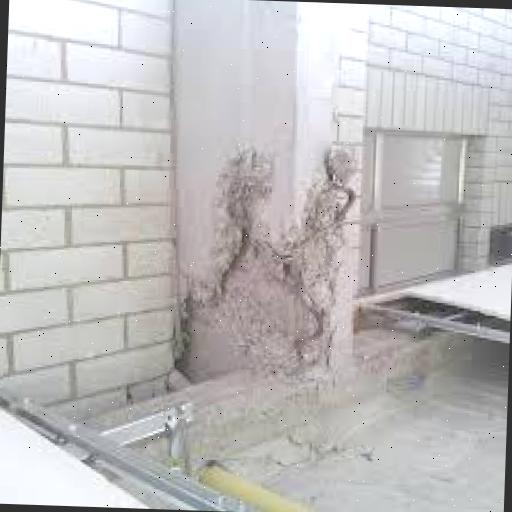spalling: (172, 151, 348, 373)
